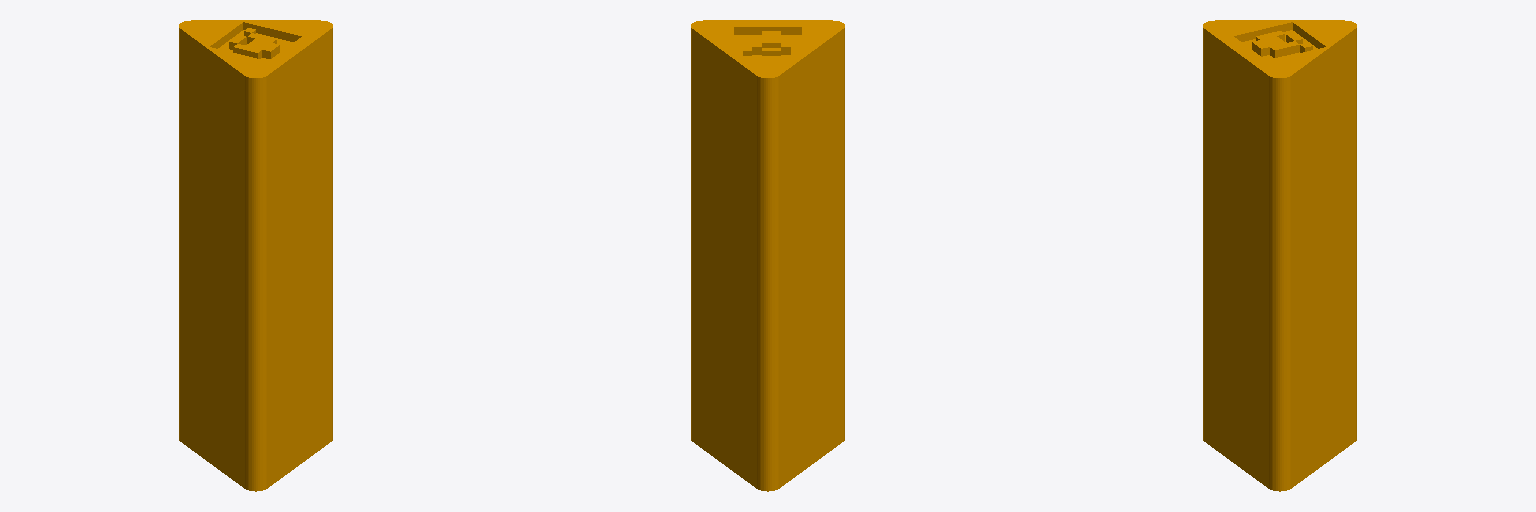
robot.urdf — 40x40_Triangle:
<?xml version="1.0" ?>
<robot name="40x40_Triangle">

    <link name="40x40_Triangle">
        <visual>
            <origin rpy="1.5707963267948966 0 0" xyz="-0.0025 0 -0.0"/>
            <geometry>
                <mesh filename="Shapes/40x40_triangle.obj" scale="1.1 1.1 1.1"/>
            </geometry>
        </visual>
        <collision>
            <origin rpy="1.5707963267948966 0 0" xyz="-0.0025 0 -0.0"/>
            <geometry>
                <mesh filename="Shapes/40x40_triangle.obj" scale="1.1 1.1 1.1"/>
            </geometry>
        </collision>
        <inertial>
            <mass value="0.3"/>
            <inertia ixx="0.000029435425" ixy="0.0" ixz="0.0" iyy="0.000029435425" iyz="0.0" izz="0.00000725805"/>
        </inertial>
    </link>

</robot>

--- What the picture shows (computed from the rendered views, not written in the file) ---
The picture shows the robot from 3 angles, left to right: view 1: azimuth 30°, elevation 25°; view 2: azimuth 150°, elevation 25°; view 3: azimuth 270°, elevation 25°; orthographic projection.
Model 40x40_Triangle with 1 links and 0 joints (none), rooted at 40x40_Triangle, posed every joint at zero.
Links seen in each view (by area): view 1: 40x40_Triangle; view 2: 40x40_Triangle; view 3: 40x40_Triangle.
Boxes of the visible links, x1,y1,x2,y2 form: 40x40_Triangle: [179, 20, 332, 491]; 40x40_Triangle: [691, 20, 844, 491]; 40x40_Triangle: [1203, 20, 1356, 491].
Size in the robot's own frame: 0.0348 by 0.0392 by 0.1155 metres.
Meshes: 1 distinct files referenced, 1 mesh visuals loaded (1 OBJ).
